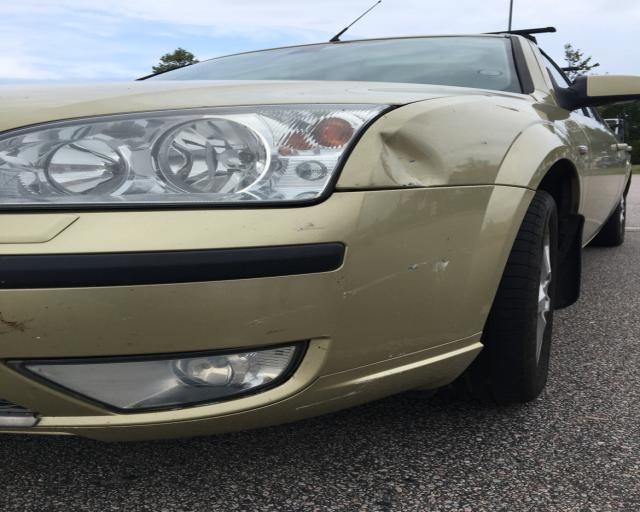dent: (380, 130, 448, 187)
scratch: (336, 258, 452, 301)
